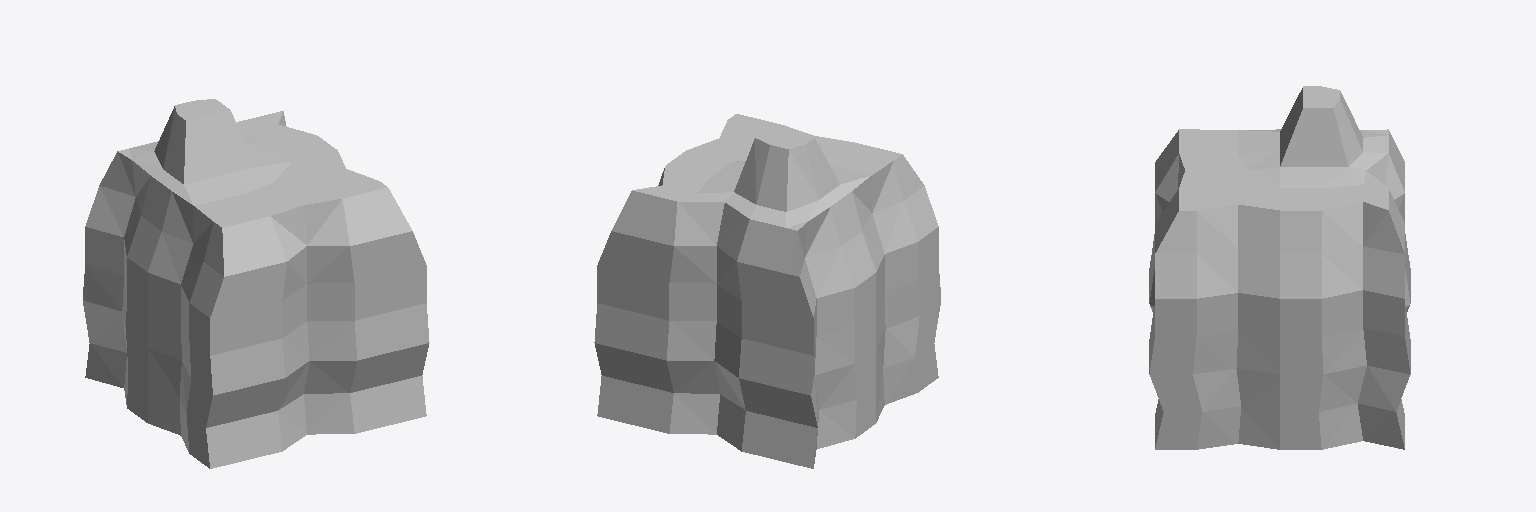
3 views of the same model, side by side, from view 1: azimuth 30°, elevation 25°; view 2: azimuth 150°, elevation 25°; view 3: azimuth 270°, elevation 25° (orthographic).
Visible parts, largest first — view 1: cubenew.001; view 2: cubenew.001; view 3: cubenew.001.
Boxes of the visible parts, x1,y1,x2,y2 form: cubenew.001: [83, 99, 429, 468]; cubenew.001: [594, 114, 940, 468]; cubenew.001: [1149, 86, 1410, 449].
Bounding box in the file's own units: 10 × 12.45 × 10.45.